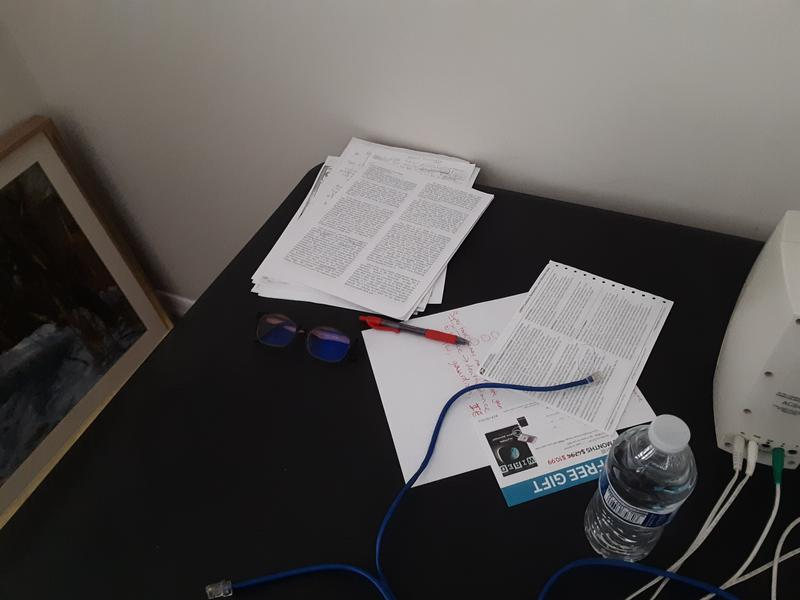glasses: (254, 309, 354, 368)
